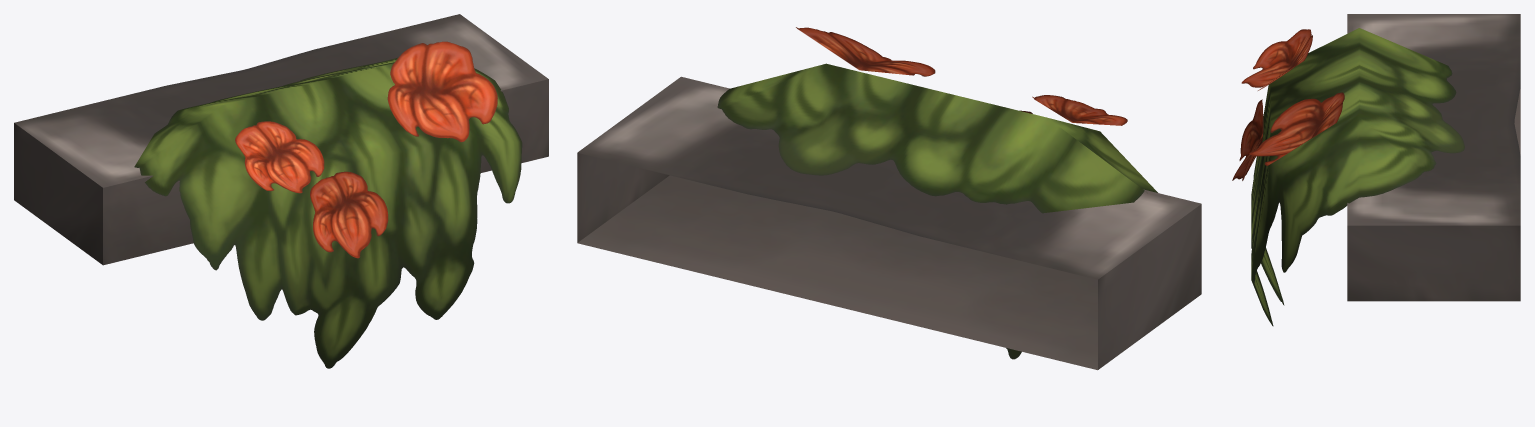
The model's file is flower window.FBX.
3 renders of one model, left to right at view 1: azimuth 30°, elevation 25°; view 2: azimuth 150°, elevation 25°; view 3: azimuth 270°, elevation 25°, orthographic. The views are drawn at different scales.
Parts seen in each view (by area): view 1: flower window; view 2: flower window; view 3: flower window.
Boxes of the visible parts, x1,y1,x2,y2 form: flower window: (14,14,548,368); flower window: (577,27,1201,370); flower window: (1232,14,1520,326).
Size of the model in its own units: 222 by 134 by 128.
Materials: 1 (1 with a texture image).
